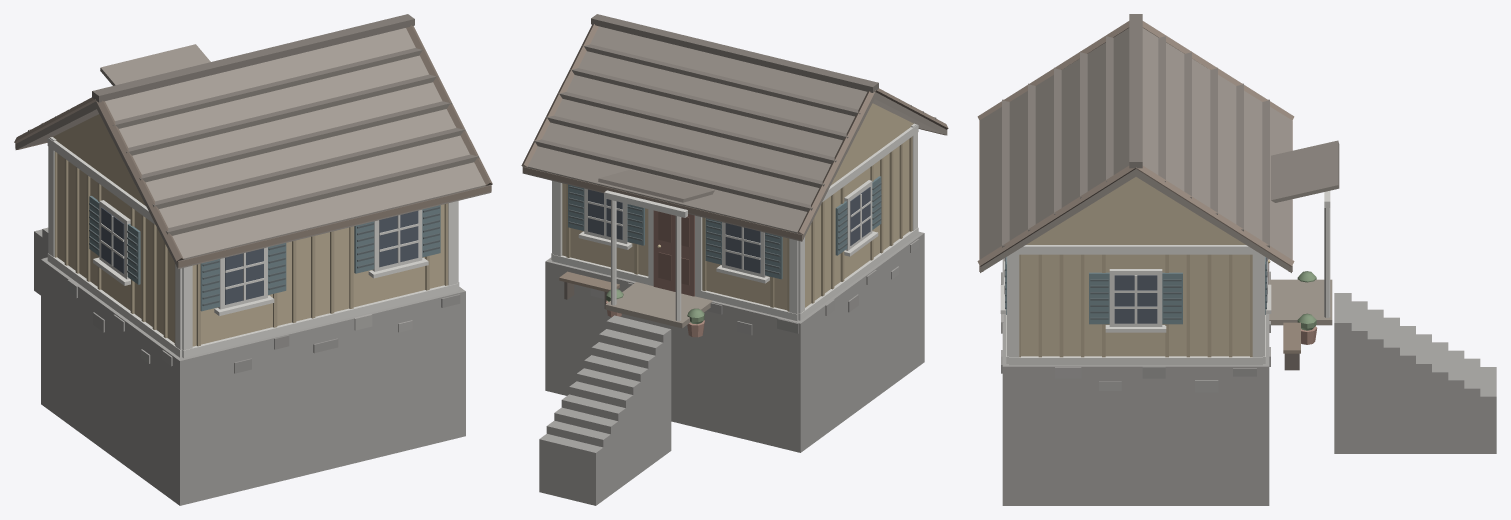
File: house_0_1.gltf
3 views of the same model, side by side, from view 1: azimuth 30°, elevation 25°; view 2: azimuth 150°, elevation 25°; view 3: azimuth 270°, elevation 25° (orthographic). The views are drawn at different scales.
Visible parts, largest first — view 1: Body; view 2: Body; view 3: Body.
Boxes of the visible parts, x1,y1,x2,y2 form: Body: (14,14,492,505); Body: (521,14,948,505); Body: (977,14,1496,505).
Size of the model in its own units: 6.97 by 7.69 by 10.31.
